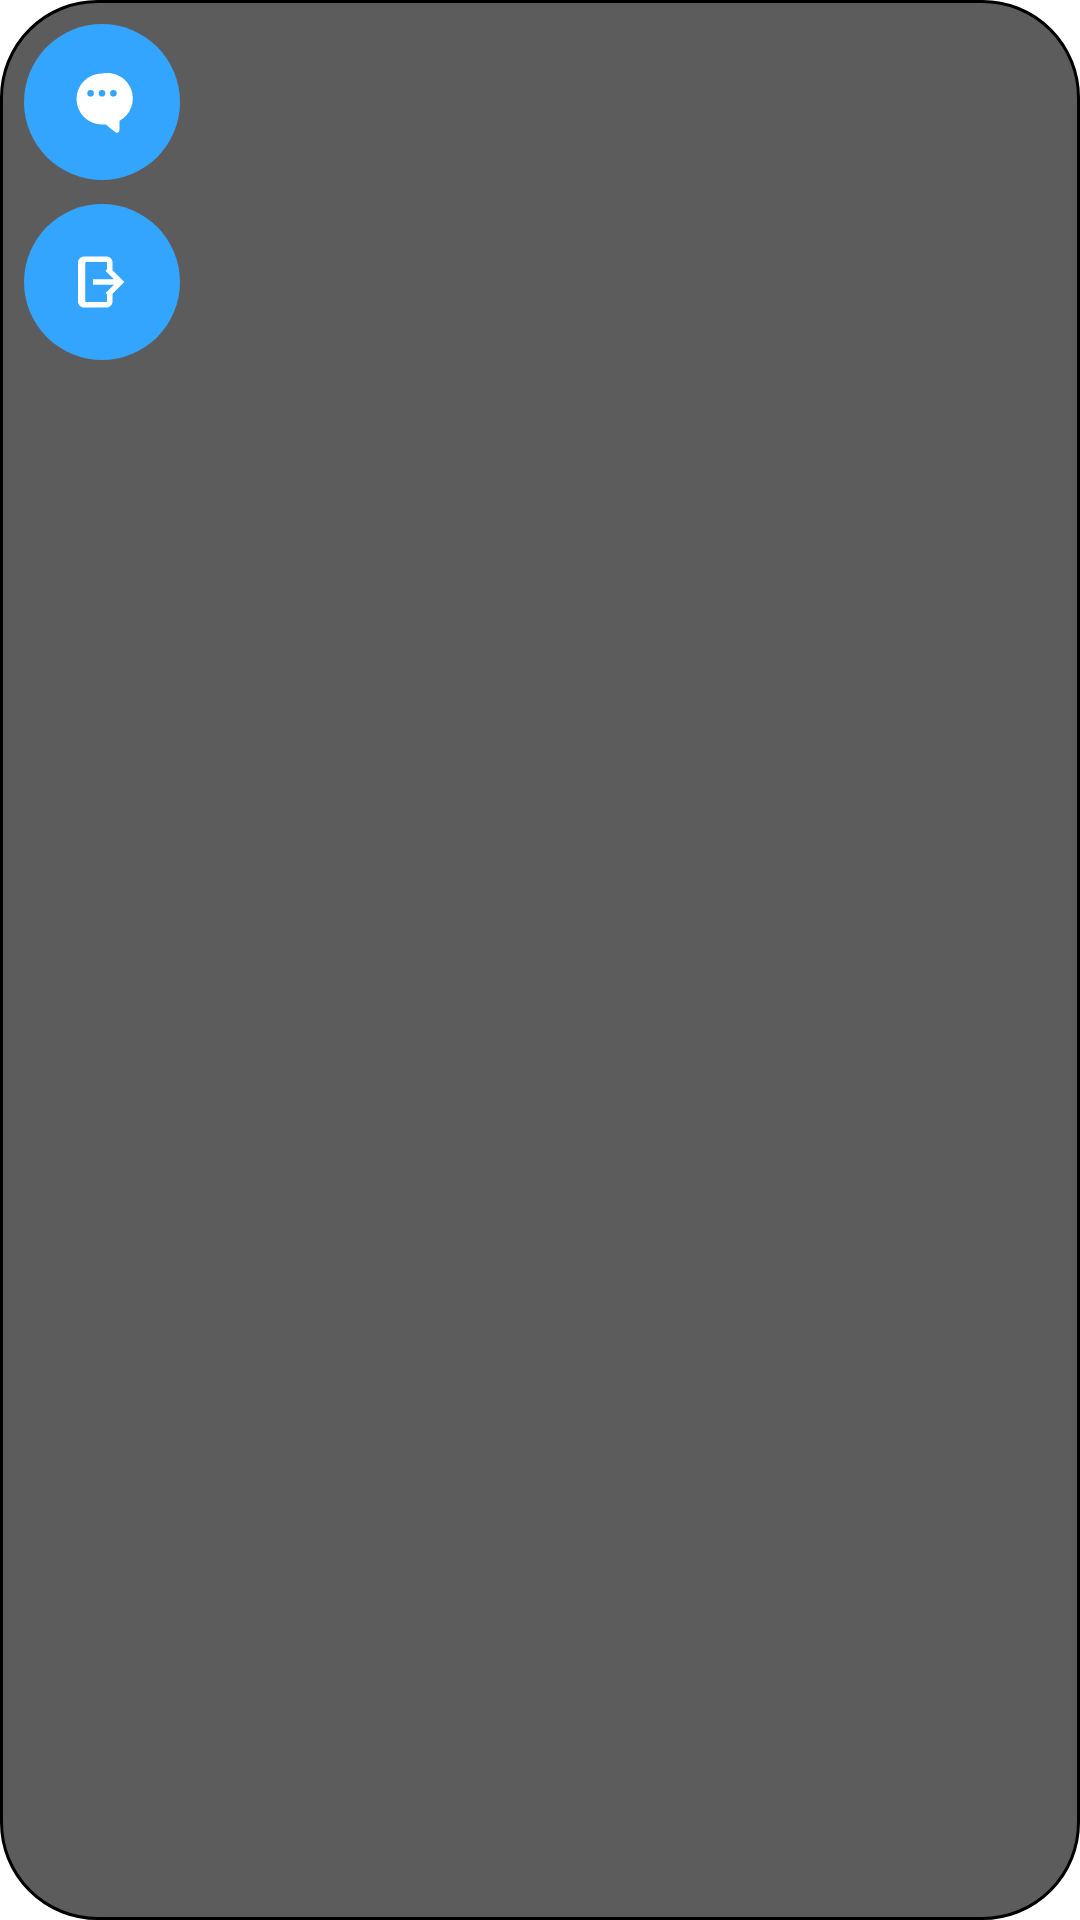

Point at icon controls on the screen. Image size 1080*1920, points as point (x, y).
Chào: point (102, 102)
Tạm biệt: point (102, 282)
